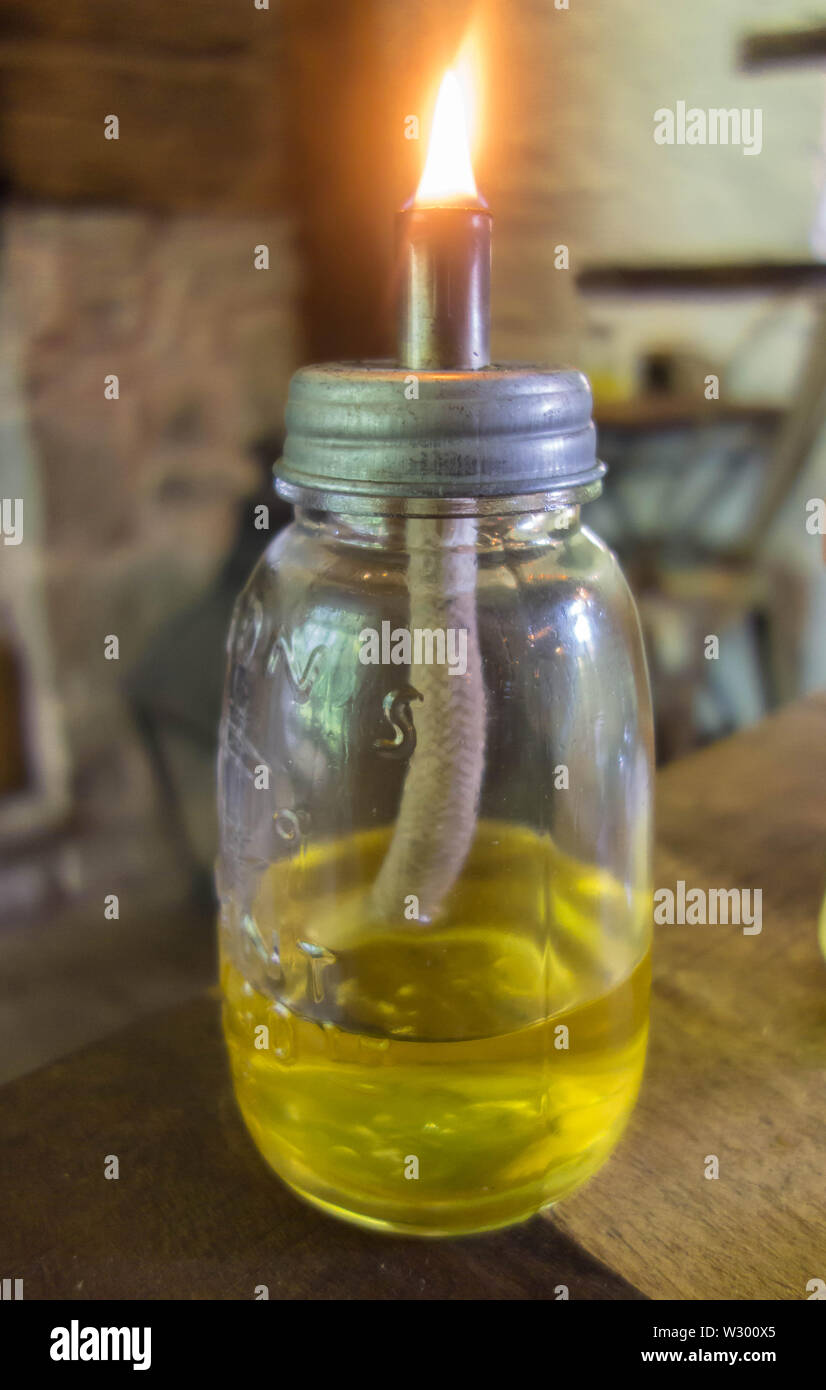Open-Flame-Hazard: (213, 10, 662, 1247)
